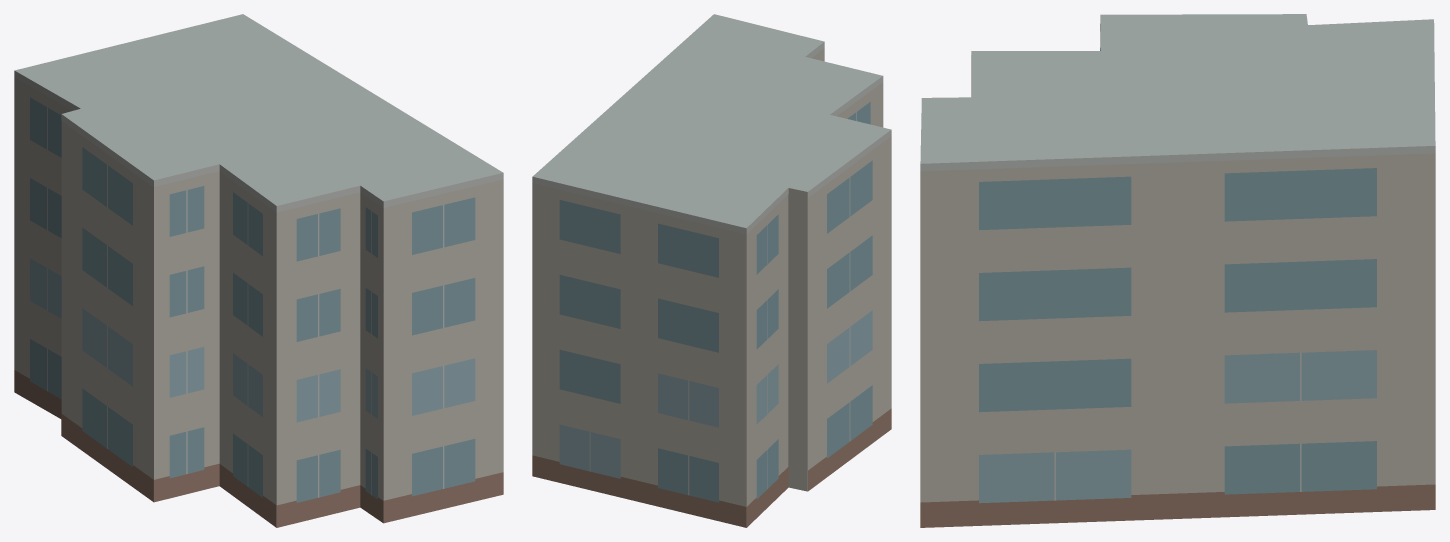
Rendered from survey-upis-32819413.glb.
3 views of the same model, side by side, from view 1: azimuth 30°, elevation 25°; view 2: azimuth 150°, elevation 25°; view 3: azimuth 270°, elevation 25° (orthographic). The views are drawn at different scales.
Visible parts, largest first — view 1: survey-upis-32819413.tmp; view 2: survey-upis-32819413.tmp; view 3: survey-upis-32819413.tmp.
Part boxes in pixels (left/top/right/bottom): survey-upis-32819413.tmp: left=14, top=14, right=503, bottom=527; survey-upis-32819413.tmp: left=532, top=14, right=891, bottom=527; survey-upis-32819413.tmp: left=920, top=14, right=1435, bottom=527.
Size of the model in its own units: 10.34 by 11.7 by 15.02.
